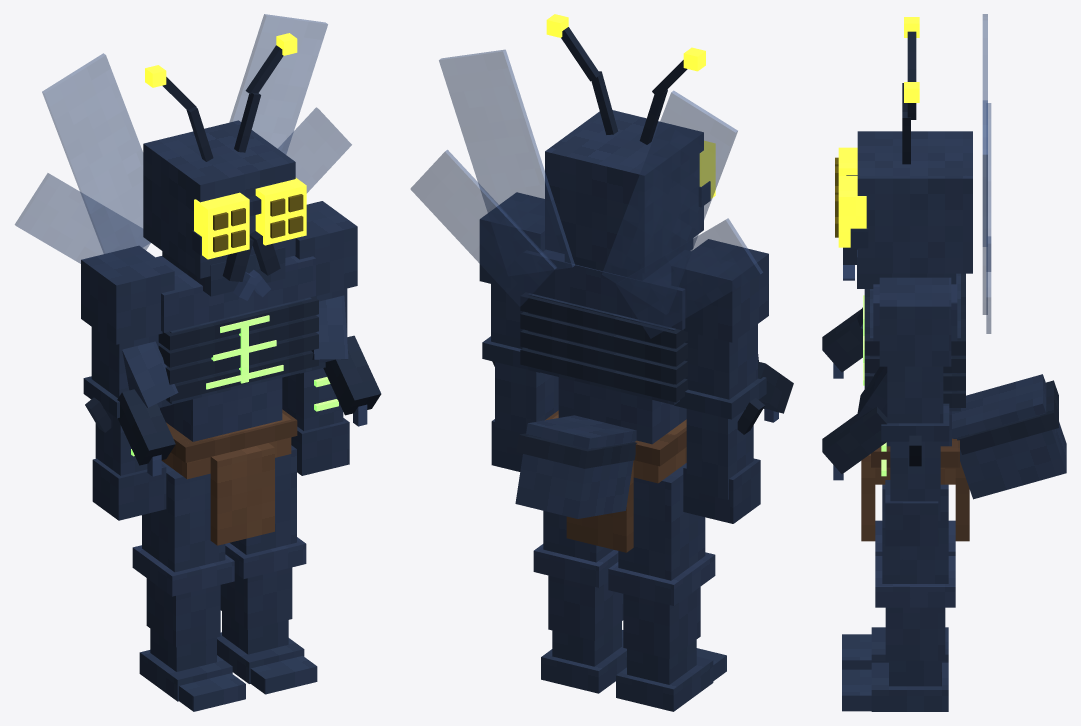
The model's file is insectoid_base_v3_evo1.glb.
3 views of the same model, side by side, from view 1: azimuth 30°, elevation 25°; view 2: azimuth 150°, elevation 25°; view 3: azimuth 270°, elevation 25° (orthographic). The views are drawn at different scales.
Parts seen in each view (by area): view 1: Torso, Head, LegR, ArmR, LegL, ArmL; view 2: Torso, Head, ArmR, LegR, ArmL, LegL; view 3: Torso, Head, ArmL, LegL, LegR.
Part boxes in pixels (left/top/right/bottom): Torso: left=15, top=14, right=381, bottom=545; Head: left=143, top=33, right=306, bottom=300; LegR: left=132, top=461, right=245, bottom=711; ArmR: left=81, top=245, right=174, bottom=520; LegL: left=217, top=445, right=317, bottom=694; ArmL: left=282, top=201, right=357, bottom=475; Torso: left=410, top=49, right=793, bottom=552; Head: left=545, top=14, right=715, bottom=280; ArmR: left=671, top=239, right=768, bottom=523; LegR: left=608, top=463, right=726, bottom=711; ArmL: left=479, top=192, right=558, bottom=471; LegL: left=533, top=511, right=626, bottom=693; Torso: left=822, top=14, right=1066, bottom=541; Head: left=835, top=17, right=972, bottom=288; ArmL: left=879, top=277, right=951, bottom=546; LegL: left=842, top=484, right=955, bottom=711; LegR: left=842, top=520, right=955, bottom=669.
Size of the model in its own units: 1.12 by 1.98 by 0.699.
Materials: 23 (23 with a texture image).
